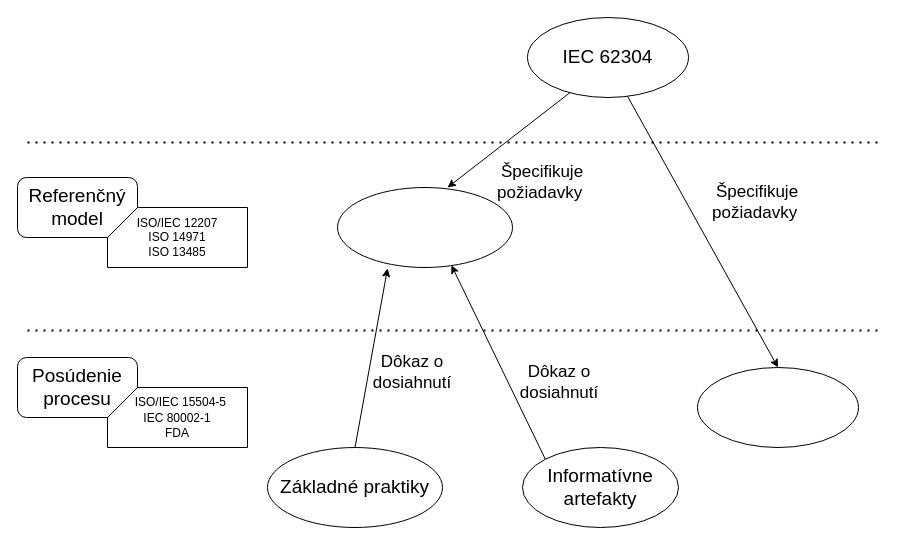
Some shapes in this 897 by 545 pixel diagram are drawn without their labels. Here are the shapes that lost their labels. From the top down, the centre of each, then its label:
At (x=424, y=227): "Výsledky procesu".
At (x=777, y=407): "Normatívne artefakty".
